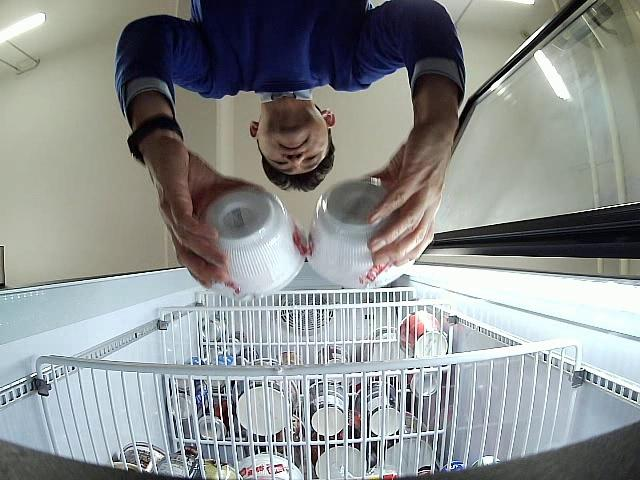00_hand: (141, 147, 265, 289), (368, 103, 459, 267)
09_yukGaeJang: (307, 179, 414, 288), (202, 188, 306, 299)
